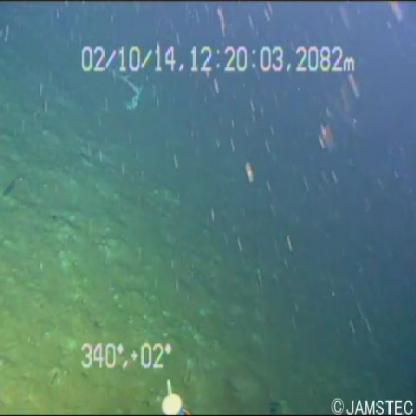Rác: (104, 52, 148, 116)
